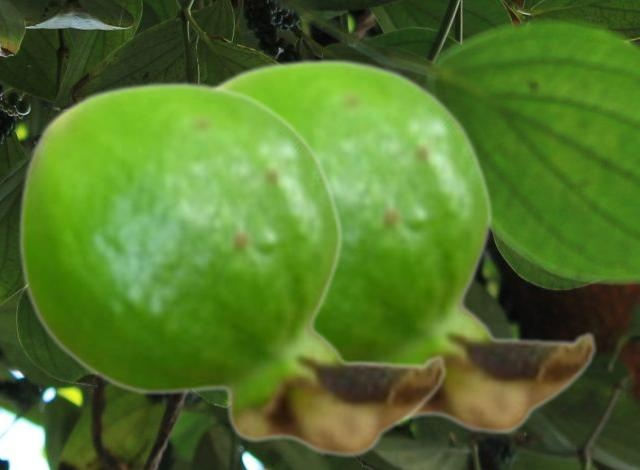guava: (17, 80, 447, 458), (214, 57, 597, 435)
